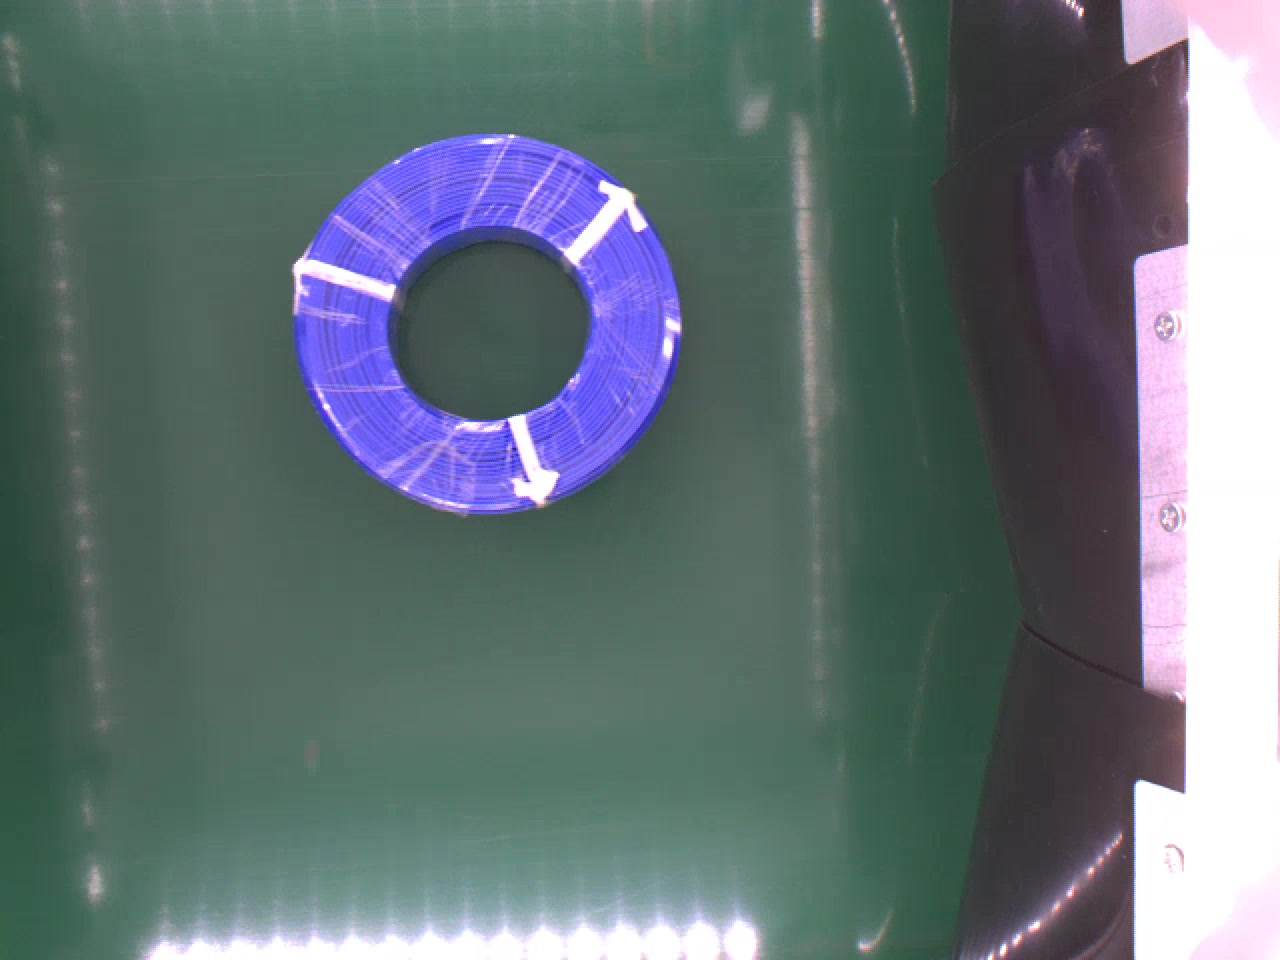blue: (290, 132, 686, 512)
